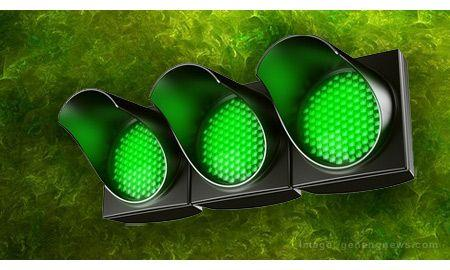Traffic light green: (38, 27, 435, 223)
